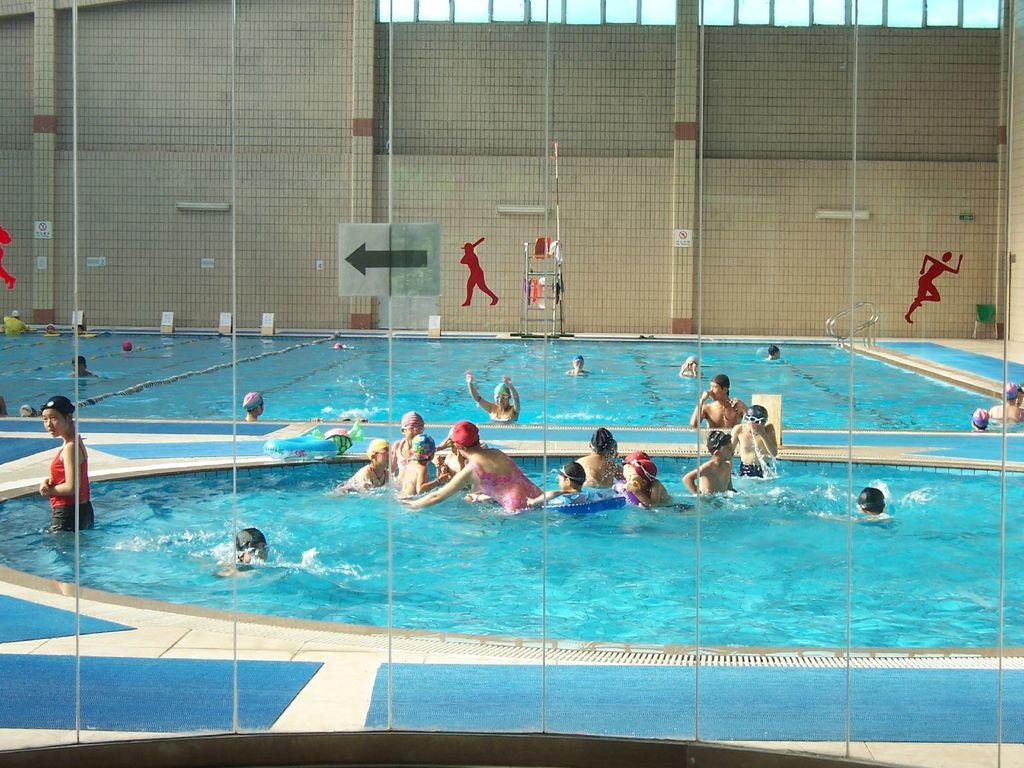Person: (0, 226, 1024, 576)
